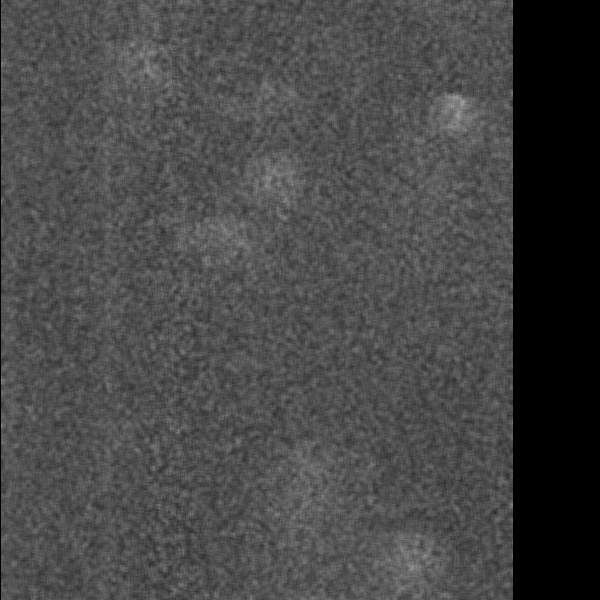spark: (443, 92, 480, 159), (253, 154, 276, 209), (125, 45, 160, 81), (399, 544, 424, 593)
